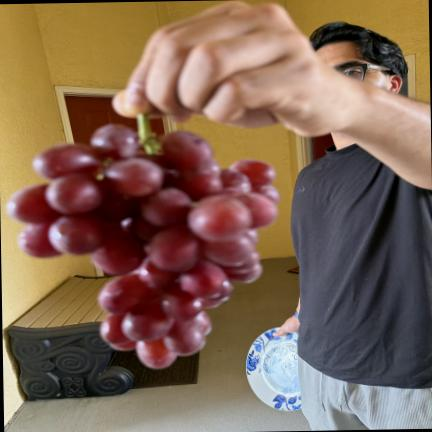grape_cluster: (7, 114, 279, 368)
